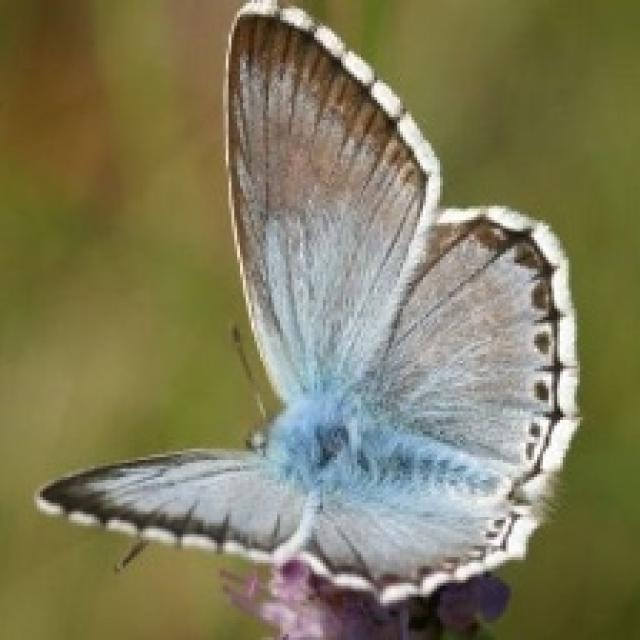butterfly: (31, 0, 583, 637)
